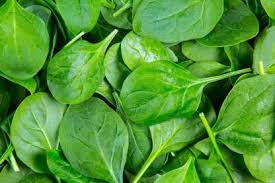spinach: (17, 17, 259, 176)
